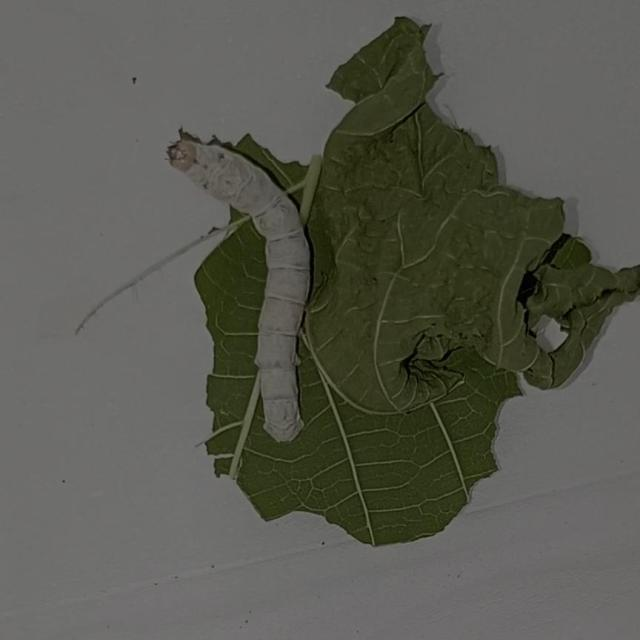Healthy: (158, 128, 331, 448)
